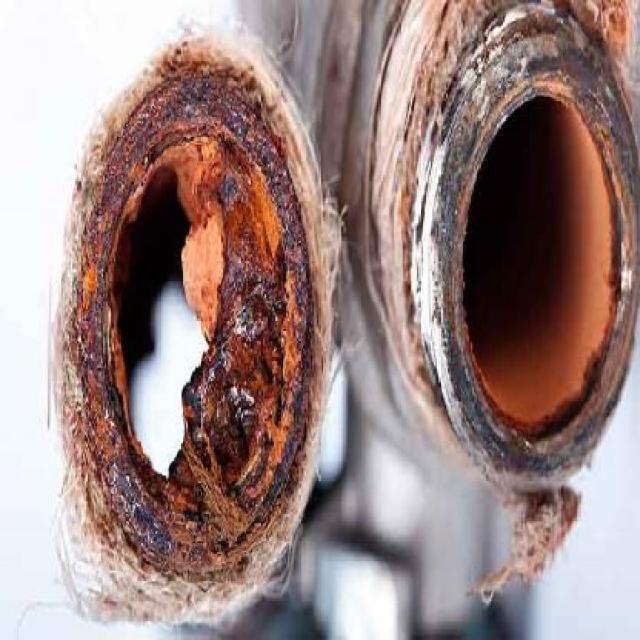corrosion: (53, 29, 333, 620), (374, 0, 638, 491)
